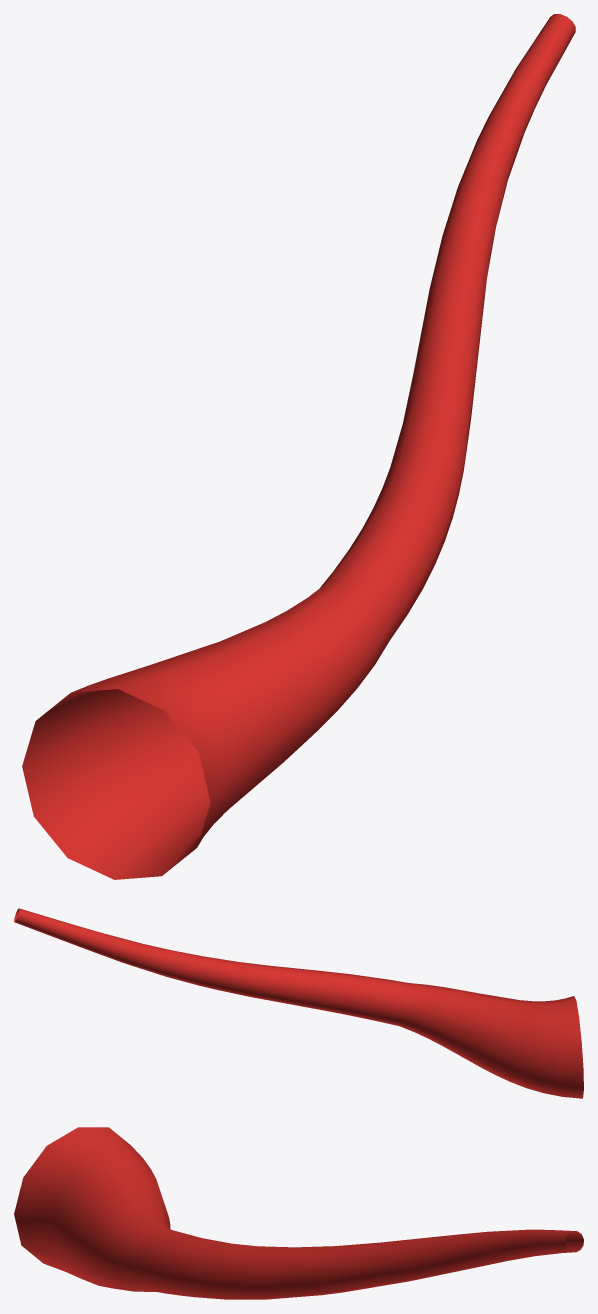
File: circulatorio-anterior-branch-of-renal-artery-l.glb
3 renders of one model, top to bottom at view 1: azimuth 30°, elevation 25°; view 2: azimuth 150°, elevation 25°; view 3: azimuth 270°, elevation 25°, orthographic. The views are drawn at different scales.
Parts seen in each view (by area): view 1: Anterior branch of renal artery.l; view 2: Anterior branch of renal artery.l; view 3: Anterior branch of renal artery.l.
Part boxes in pixels (left/top/right/bottom): Anterior branch of renal artery.l: left=22, top=14, right=575, bottom=879; Anterior branch of renal artery.l: left=14, top=908, right=583, bottom=1098; Anterior branch of renal artery.l: left=14, top=1127, right=583, bottom=1299.
Size of the model in its own units: 0.033 by 0.0159 by 0.0262.
